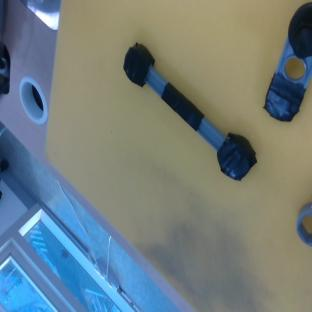part_3_bad: (109, 39, 264, 184), (295, 3, 312, 27)
part_3_good: (297, 202, 312, 247)
